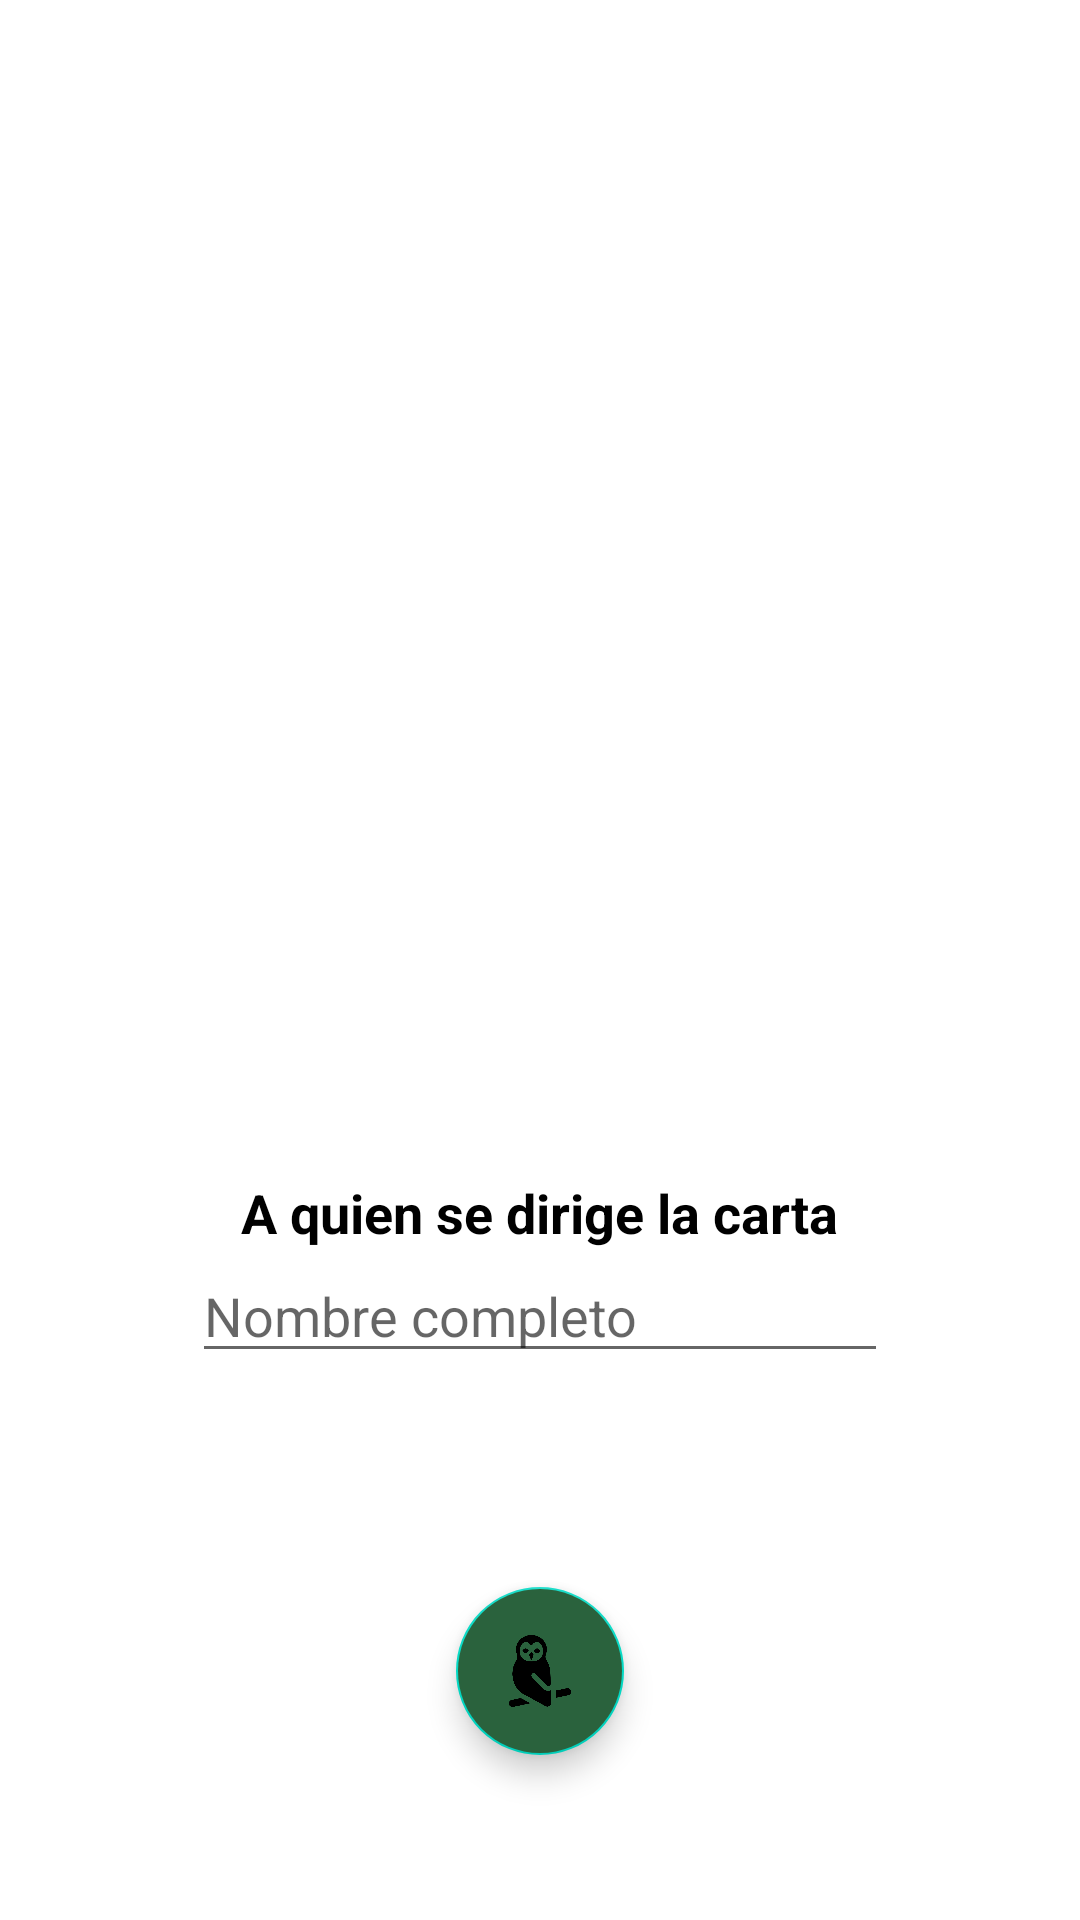

Screen size 1080 x 1920. Icon name, then its center in pixels as (x,y):
lechuza: (540,1671)
